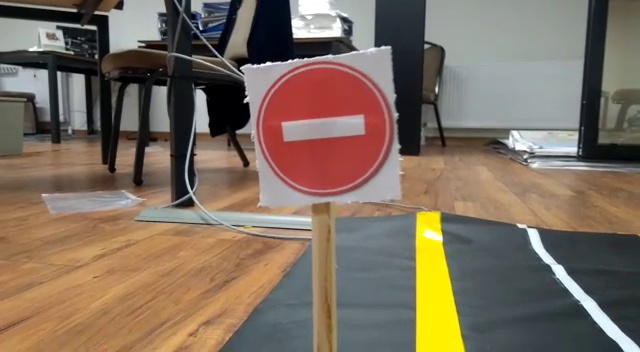girisi_olmayan_yol: (246, 56, 403, 198)
